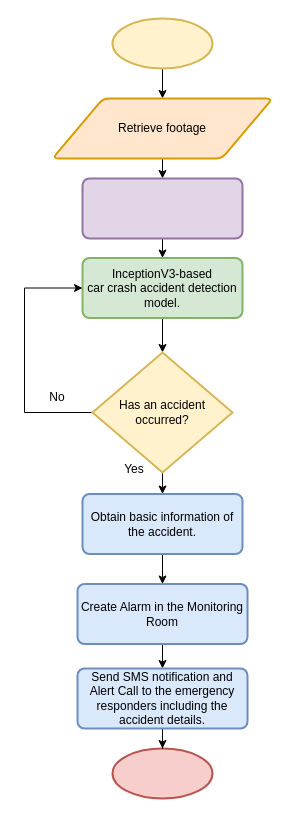
This 291x816 diagram has some shape labels left out. Each missing label, with the box of its shape:
END: (111, 747, 213, 799)
Preprocess / resize the image to the model's input.: (81, 177, 243, 239)
START: (111, 17, 213, 69)
